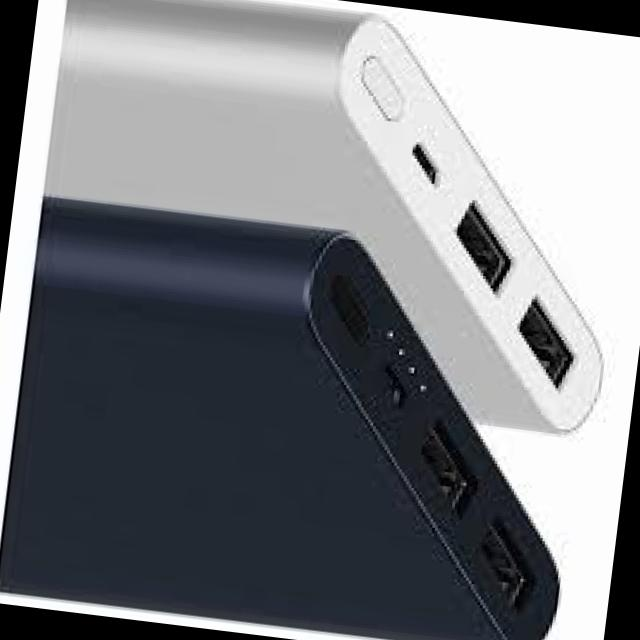portable-charger: (20, 0, 640, 439), (0, 194, 606, 640)
